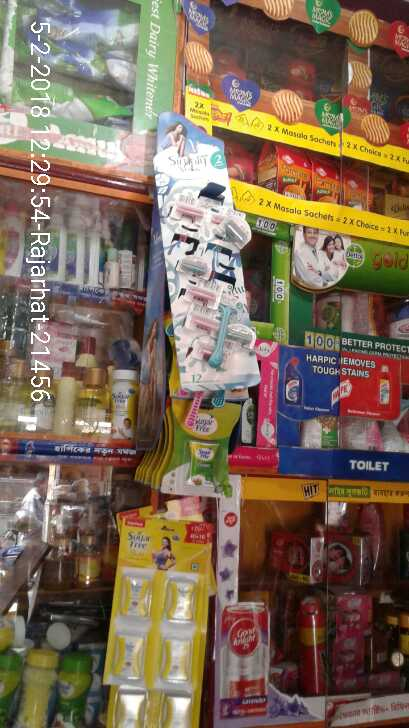reject: (322, 104, 400, 156)
